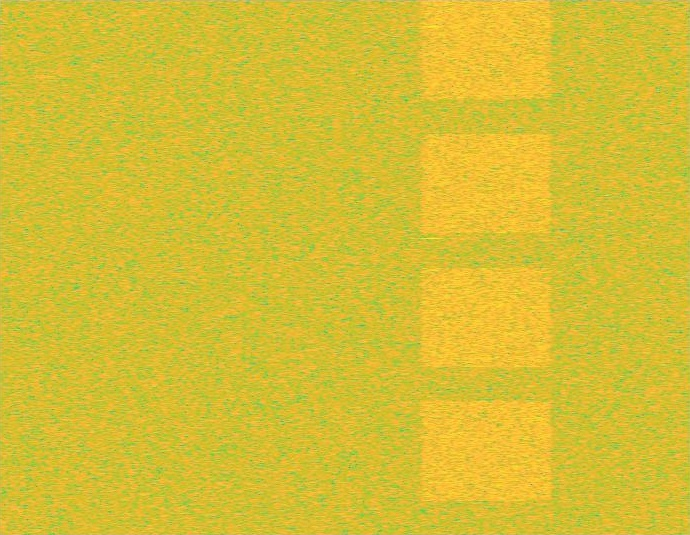5G: (417, 0, 555, 534)
Radar: (425, 0, 439, 534)
